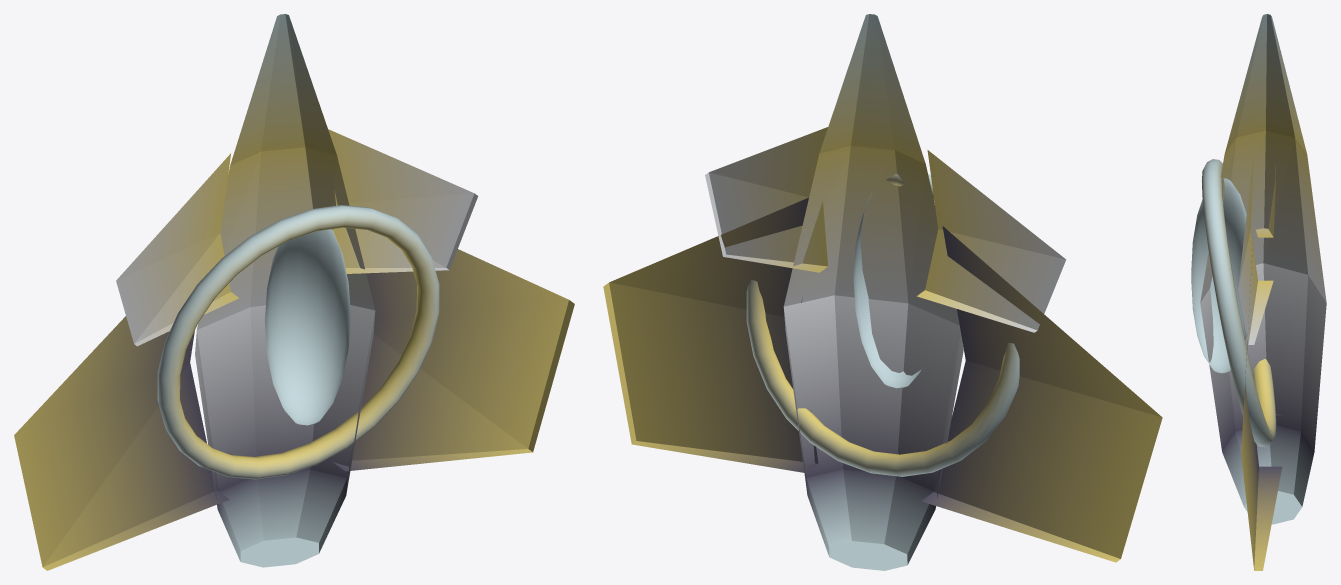
Rendered from ship_royal_dreadnought.glb.
3 renders of one model, left to right at view 1: azimuth 30°, elevation 25°; view 2: azimuth 150°, elevation 25°; view 3: azimuth 270°, elevation 25°, orthographic. The views are drawn at different scales.
Parts seen in each view (by area): view 1: ShipRoot; view 2: ShipRoot; view 3: ShipRoot.
Part boxes in pixels (<box>): ShipRoot: <box>14,14,574,570</box>; ShipRoot: <box>603,14,1162,570</box>; ShipRoot: <box>1191,14,1326,570</box>.
Bounding box in the file's own units: 4.8 × 4.45 × 1.11.
